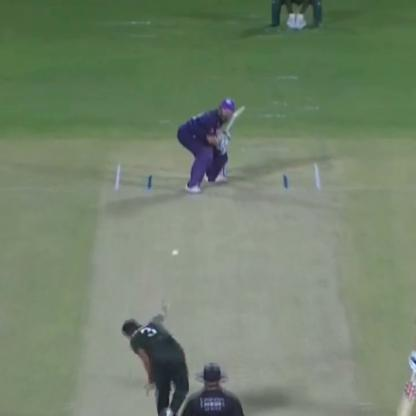ball: (170, 247, 184, 259)
bat: (224, 98, 247, 135)
pitch: (78, 154, 346, 416)
